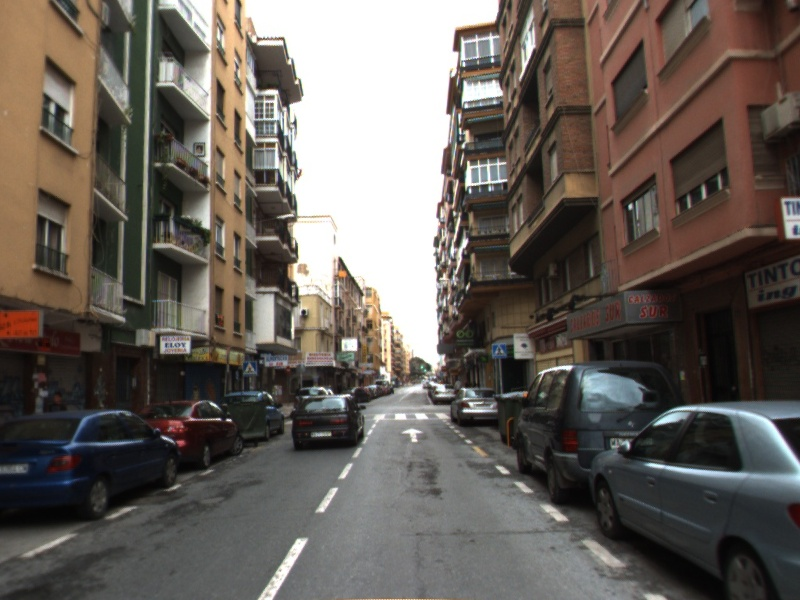STRAIGHT: (399, 426, 426, 444)
